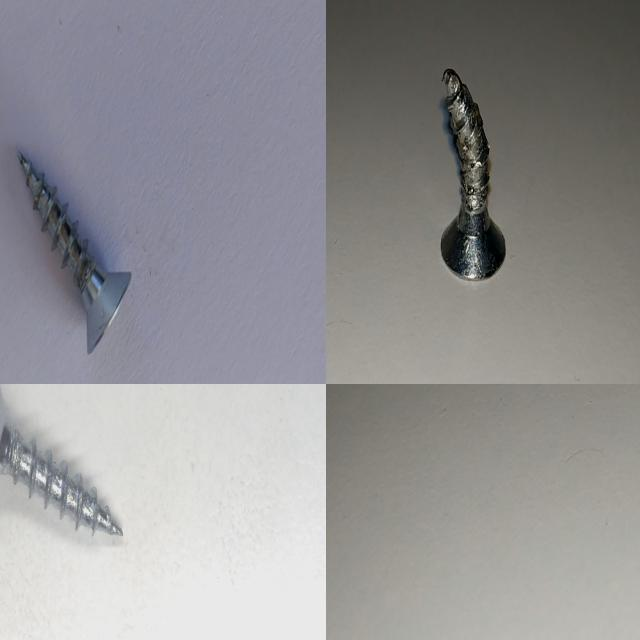Screw: (19, 151, 131, 353), (0, 389, 121, 534), (442, 68, 506, 279)
